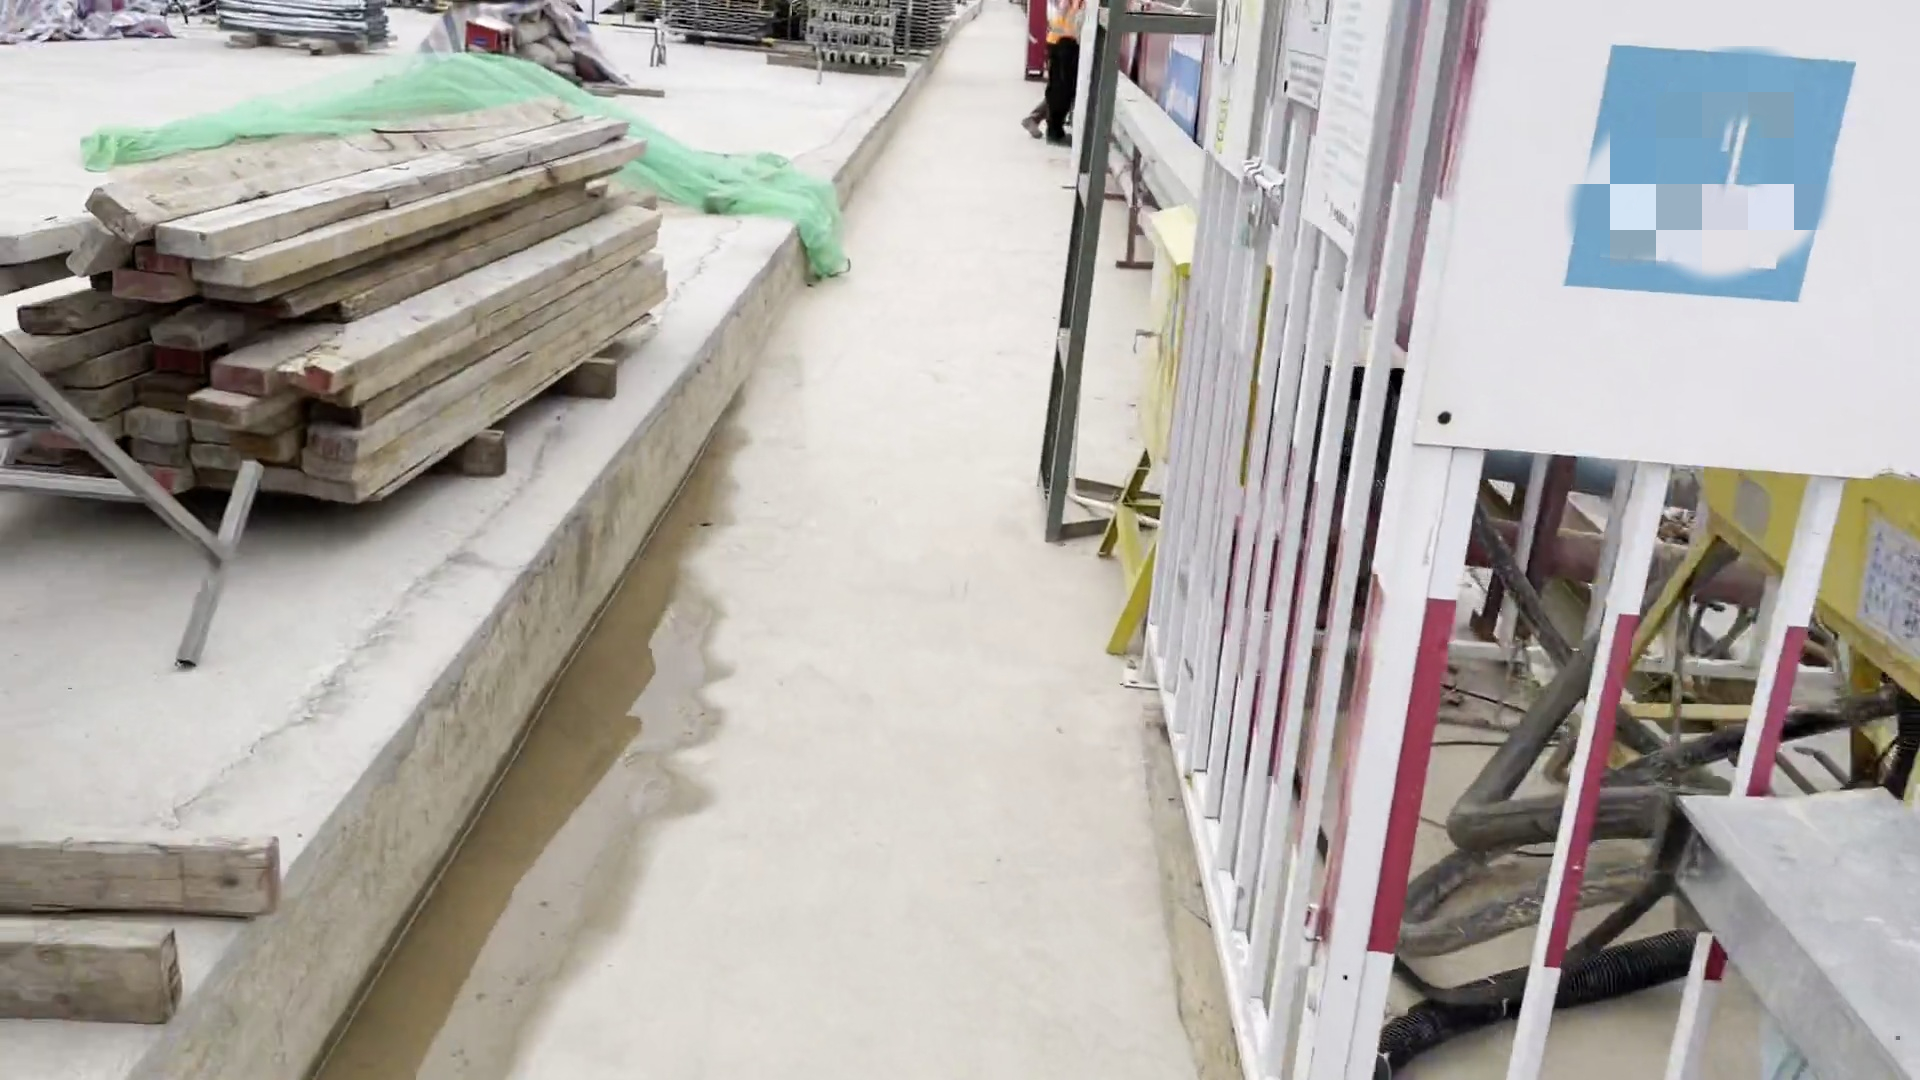ebox: (1099, 196, 1196, 666)
fence: (1108, 5, 1206, 138)
person: (1021, 3, 1104, 161)
slogan: (1206, 3, 1413, 264), (1163, 4, 1214, 143)
vest: (1039, 3, 1094, 45)
wood: (1, 89, 710, 524), (3, 774, 315, 1058)
